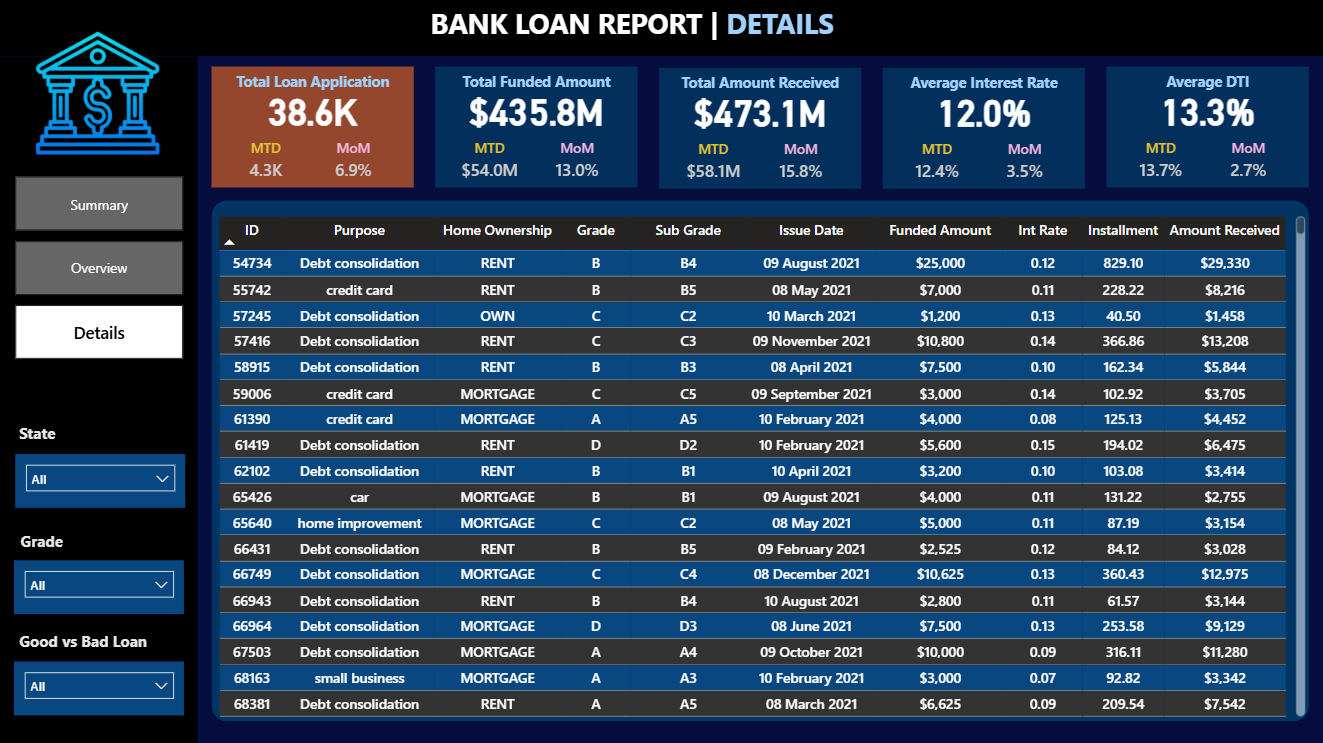

The page's visual inventory and layout, read from the dashboard file:
{"tool":"powerbi","page":{"name":"Details","canvas":[1280,720],"ordinal":2},"visuals":[{"type":"shape","box":[0,55.5,191.8,664.7],"z":0},{"type":"shape","box":[0,0,1280.3,55],"z":1000},{"type":"textbox","box":[411.4,0,465.7,55.5],"z":2000},{"type":"shape","box":[205.1,65.1,195.4,117],"z":3000,"group":"g5"},{"type":"shape","box":[421,65.1,195.4,117],"z":3000,"group":"g2"},{"type":"shape","box":[1068.9,65.1,195.4,117],"z":3000,"group":"g6"},{"type":"shape","box":[637,66.4,195.4,117],"z":3000,"group":"g3"},{"type":"shape","box":[853,66.4,195.4,117],"z":3000,"group":"g4"},{"type":"shape","box":[205.1,194.2,1059.3,503.1],"z":3000},{"type":"group","id":"g1","title":"Group 1","box":[205.1,65.1,195.4,117],"z":4000},{"type":"card","fields":{"Values":["financial_loan bank_loan_data.Total Loan Application"]},"box":[205.1,79.6,195.4,53.1],"z":4000,"group":"g5"},{"type":"card","fields":{"Values":["financial_loan bank_loan_data.Total Funded Amount"]},"box":[421,79.6,195.4,53.1],"z":4000,"group":"g2"},{"type":"card","fields":{"Values":["financial_loan bank_loan_data.Avg DTI"]},"box":[1068.9,79.6,195.4,53.1],"z":4000,"group":"g6"},{"type":"card","fields":{"Values":["financial_loan bank_loan_data.Total Amount Received"]},"box":[637,80.9,195.4,53.1],"z":4000,"group":"g3"},{"type":"card","fields":{"Values":["financial_loan bank_loan_data.Average Interest Rate"]},"box":[853,80.9,195.4,53.1],"z":4000,"group":"g4"},{"type":"textbox","box":[218.4,65.1,168.9,29],"z":5000,"group":"g5"},{"type":"group","id":"g2","title":"Group 3","box":[421,65.1,195.4,117],"z":5000},{"type":"textbox","box":[434.3,65.1,168.9,29],"z":5000,"group":"g2"},{"type":"textbox","box":[1082.2,65.1,168.9,29],"z":5000,"group":"g6"},{"type":"textbox","box":[650.3,66.4,168.9,29],"z":5000,"group":"g3"},{"type":"textbox","box":[866.3,66.4,168.9,29],"z":5000,"group":"g4"},{"type":"group","id":"g3","title":"Group 3","box":[637,66.4,195.4,117],"z":6000},{"type":"card","title":"MTD","fields":{"Values":["financial_loan bank_loan_data.MTD Loan Application"]},"box":[218.4,133.9,78.4,48.3],"z":6000,"group":"g5"},{"type":"card","title":"MTD","fields":{"Values":["financial_loan bank_loan_data.MTD Funded Amount"]},"box":[434.3,133.9,78.4,48.3],"z":6000,"group":"g2"},{"type":"card","title":"MTD","fields":{"Values":["financial_loan bank_loan_data.MTD DTI"]},"box":[1082.2,133.9,78.4,48.3],"z":6000,"group":"g6"},{"type":"card","title":"MTD","fields":{"Values":["financial_loan bank_loan_data.MTD Amount Received"]},"box":[650.3,135.2,78.4,48.3],"z":6000,"group":"g3"},{"type":"card","title":"MTD","fields":{"Values":["financial_loan bank_loan_data.MTD Interest rate"]},"box":[866.3,135.2,78.4,48.3],"z":6000,"group":"g4"},{"type":"group","id":"g4","title":"Group 3","box":[853,66.4,195.4,117],"z":7000},{"type":"card","title":"MoM","fields":{"Values":["financial_loan bank_loan_data.MOM Loan Application"]},"box":[302.8,133.9,78.4,48.3],"z":7000,"group":"g5"},{"type":"card","title":"MoM","fields":{"Values":["financial_loan bank_loan_data.MoM Funded Amount"]},"box":[518.7,133.9,78.4,48.3],"z":7000,"group":"g2"},{"type":"card","title":"MoM","fields":{"Values":["financial_loan bank_loan_data.MoM DTI"]},"box":[1166.6,133.9,78.4,48.3],"z":7000,"group":"g6"},{"type":"card","title":"MoM","fields":{"Values":["financial_loan bank_loan_data.MoM Amount Received"]},"box":[734.7,135.2,78.4,48.3],"z":7000,"group":"g3"},{"type":"card","title":"MoM","fields":{"Values":["financial_loan bank_loan_data.MoM Interest Rate"]},"box":[950.7,135.2,78.4,48.3],"z":7000,"group":"g4"},{"type":"group","id":"g5","title":"Group 2","box":[205.1,65.1,195.4,117],"z":7002,"group":"g1"},{"type":"group","id":"g6","title":"Group 3","box":[1068.9,65.1,195.4,117],"z":8000},{"type":"slicer","fields":{"Values":["financial_loan bank_loan_data.address_state"]},"box":[15.4,438.9,164.1,51.9],"z":9000},{"type":"textbox","box":[14.2,403.9,63.9,35],"z":10000},{"type":"slicer","fields":{"Values":["financial_loan bank_loan_data.grade"]},"box":[14.2,541.3,164.1,51.9],"z":11000},{"type":"textbox","box":[15.4,508.2,63.9,35],"z":12000},{"type":"slicer","fields":{"Values":["financial_loan bank_loan_data.Good vs Bad Loan"]},"box":[14.2,638.9,164.1,51.9],"z":13000},{"type":"textbox","box":[14.2,603.9,155.6,35],"z":14000},{"type":"tableEx","fields":{"Values":["financial_loan bank_loan_data.id","financial_loan bank_loan_data.purpose","financial_loan bank_loan_data.home_ownership","financial_loan bank_loan_data.grade","financial_loan bank_loan_data.sub_grade","financial_loan bank_loan_data.issue_date","financial_loan bank_loan_data.Total Funded Amount","Sum(financial_loan bank_loan_data.int_rate)","Sum(financial_loan bank_loan_data.installment)","financial_loan bank_loan_data.Total Amount Received"]},"box":[206.3,205.1,1059.3,492.2],"z":17000},{"type":"pageNavigator","box":[15.7,171.3,162.9,176.1],"z":19000},{"type":"image","box":[25.3,27.7,139.9,126.7],"z":20000}]}

Visuals, with their boxes in screenshot pixels (x1, y1, x2, y2), scaled from the page's 1280x720 canvas onto the 1323x743 screenshot:
shape: BBox(0, 57, 198, 742)
shape: BBox(0, 0, 1322, 57)
textbox: BBox(425, 0, 907, 57)
shape: BBox(212, 67, 414, 188)
shape: BBox(435, 67, 637, 188)
shape: BBox(1105, 67, 1307, 188)
shape: BBox(658, 69, 860, 189)
shape: BBox(882, 69, 1084, 189)
shape: BBox(212, 200, 1307, 720)
"Group 1" group: BBox(212, 67, 414, 188)
card - financial_loan bank_loan_data.Total Loan Application: BBox(212, 82, 414, 137)
card - financial_loan bank_loan_data.Total Funded Amount: BBox(435, 82, 637, 137)
card - financial_loan bank_loan_data.Avg DTI: BBox(1105, 82, 1307, 137)
card - financial_loan bank_loan_data.Total Amount Received: BBox(658, 83, 860, 138)
card - financial_loan bank_loan_data.Average Interest Rate: BBox(882, 83, 1084, 138)
textbox: BBox(226, 67, 400, 97)
"Group 3" group: BBox(435, 67, 637, 188)
textbox: BBox(449, 67, 623, 97)
textbox: BBox(1119, 67, 1293, 97)
textbox: BBox(672, 69, 847, 98)
textbox: BBox(895, 69, 1070, 98)
"Group 3" group: BBox(658, 69, 860, 189)
"MTD" card: BBox(226, 138, 307, 188)
"MTD" card: BBox(449, 138, 530, 188)
"MTD" card: BBox(1119, 138, 1200, 188)
"MTD" card: BBox(672, 140, 753, 189)
"MTD" card: BBox(895, 140, 976, 189)
"Group 3" group: BBox(882, 69, 1084, 189)
"MoM" card: BBox(313, 138, 394, 188)
"MoM" card: BBox(536, 138, 617, 188)
"MoM" card: BBox(1206, 138, 1287, 188)
"MoM" card: BBox(759, 140, 840, 189)
"MoM" card: BBox(983, 140, 1064, 189)
"Group 2" group: BBox(212, 67, 414, 188)
"Group 3" group: BBox(1105, 67, 1307, 188)
slicer - financial_loan bank_loan_data.address_state: BBox(16, 453, 186, 506)
textbox: BBox(15, 417, 81, 453)
slicer - financial_loan bank_loan_data.grade: BBox(15, 559, 184, 612)
textbox: BBox(16, 524, 82, 561)
slicer - financial_loan bank_loan_data.Good vs Bad Loan: BBox(15, 659, 184, 713)
textbox: BBox(15, 623, 176, 659)
tableEx - financial_loan bank_loan_data.id x financial_loan bank_loan_data.purpose: BBox(213, 212, 1308, 720)
pageNavigator: BBox(16, 177, 185, 358)
image: BBox(26, 29, 171, 159)
